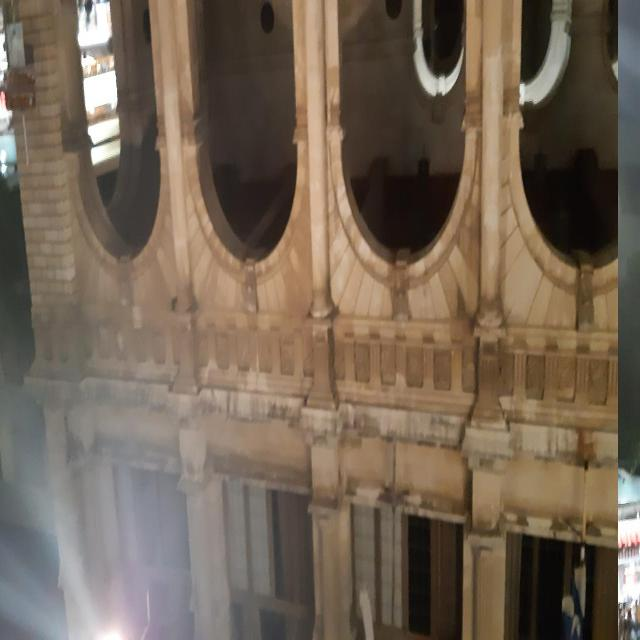Loggia: (1, 1, 619, 640)
